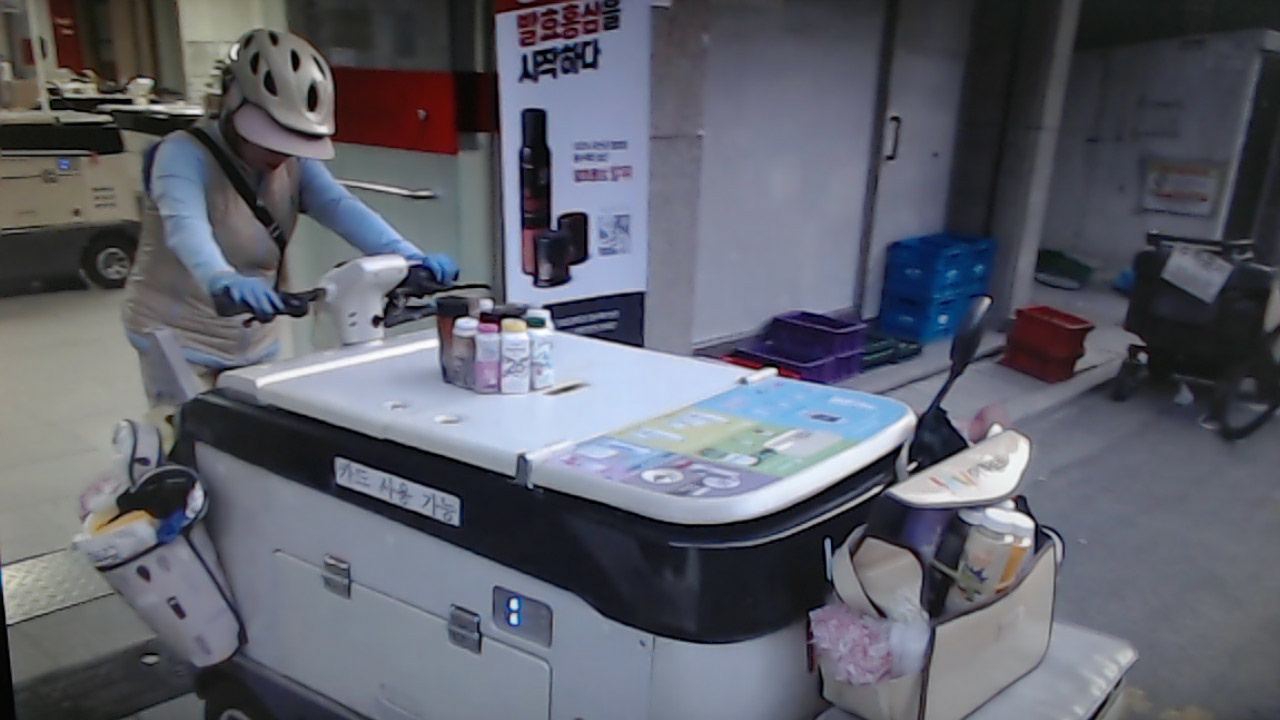Yakurut: (121, 27, 471, 405)
